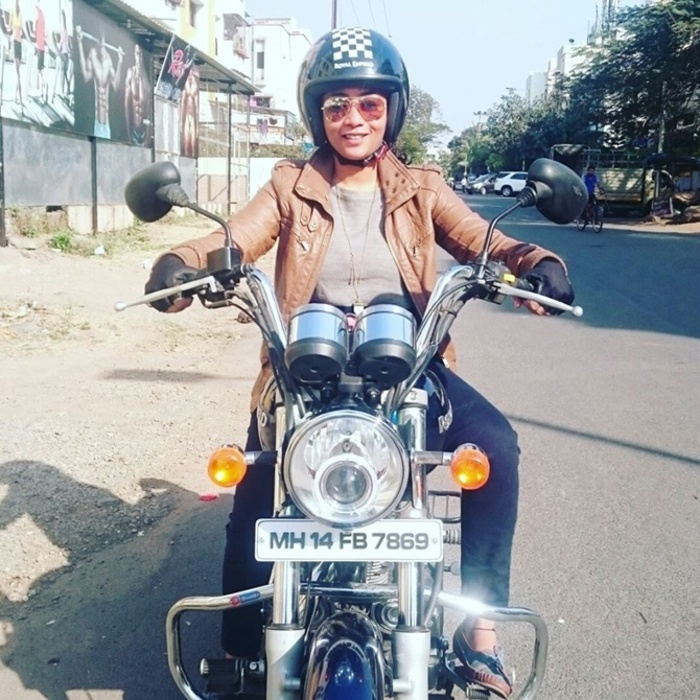h: (293, 21, 413, 165)
n: (250, 517, 447, 565)
